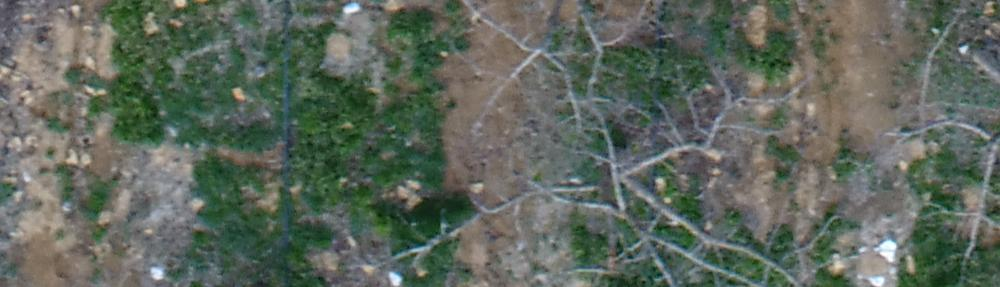apple: (382, 56, 858, 277)
